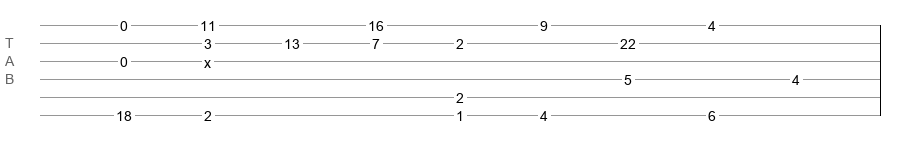0: (120, 18, 128, 28), (120, 54, 128, 64)
1: (456, 108, 464, 118)
11: (200, 18, 216, 28)
13: (284, 36, 300, 46)
16: (368, 18, 384, 28)
18: (116, 108, 132, 118)
2: (204, 108, 212, 118), (456, 90, 464, 100), (456, 36, 464, 46)
22: (620, 36, 636, 46)
3: (204, 36, 212, 46)
4: (540, 108, 548, 118), (708, 18, 716, 28), (792, 72, 800, 82)
5: (624, 72, 632, 82)
6: (708, 108, 716, 118)
7: (372, 36, 380, 46)
9: (540, 18, 548, 28)
x: (204, 55, 211, 63)
